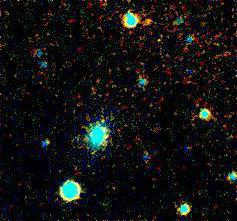star: (134, 6, 164, 36)
